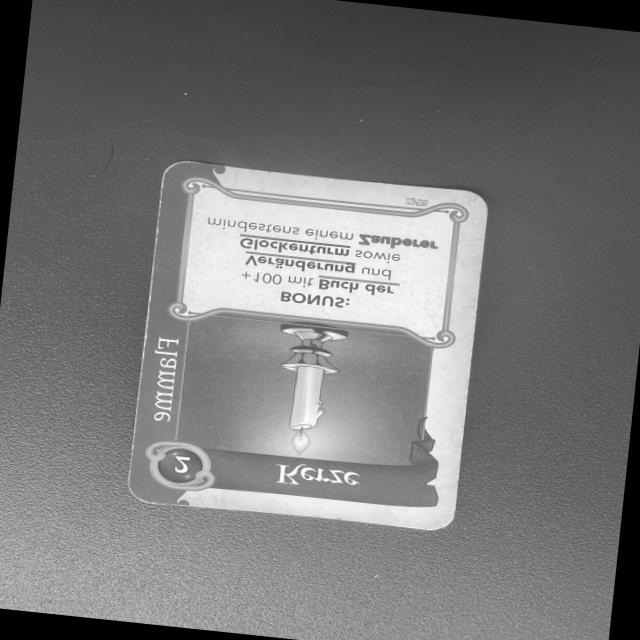Candle: (128, 157, 493, 531)
